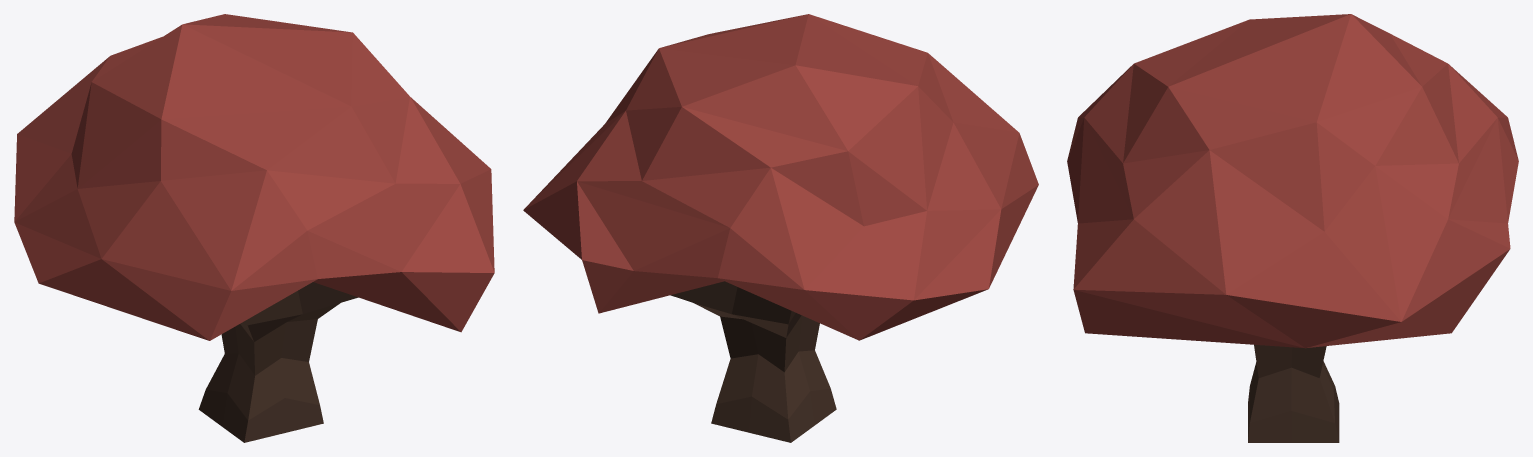
File: Tree_34_Red.fbx
The picture shows the model from 3 angles, left to right: view 1: azimuth 30°, elevation 25°; view 2: azimuth 150°, elevation 25°; view 3: azimuth 270°, elevation 25°; orthographic projection.
Visible parts, largest first — view 1: Tree_34_Red_Part_1, Tree_34_Red_Part_2; view 2: Tree_34_Red_Part_1, Tree_34_Red_Part_2; view 3: Tree_34_Red_Part_1, Tree_34_Red_Part_2.
Boxes of the visible parts, x1,y1,x2,y2 form: Tree_34_Red_Part_1: (14,14,494,340); Tree_34_Red_Part_2: (198,282,358,442); Tree_34_Red_Part_1: (523,14,1038,340); Tree_34_Red_Part_2: (670,281,836,442); Tree_34_Red_Part_1: (1067,14,1518,348); Tree_34_Red_Part_2: (1248,344,1339,442).
Bounding box in the file's own units: 804 × 710 × 755.
